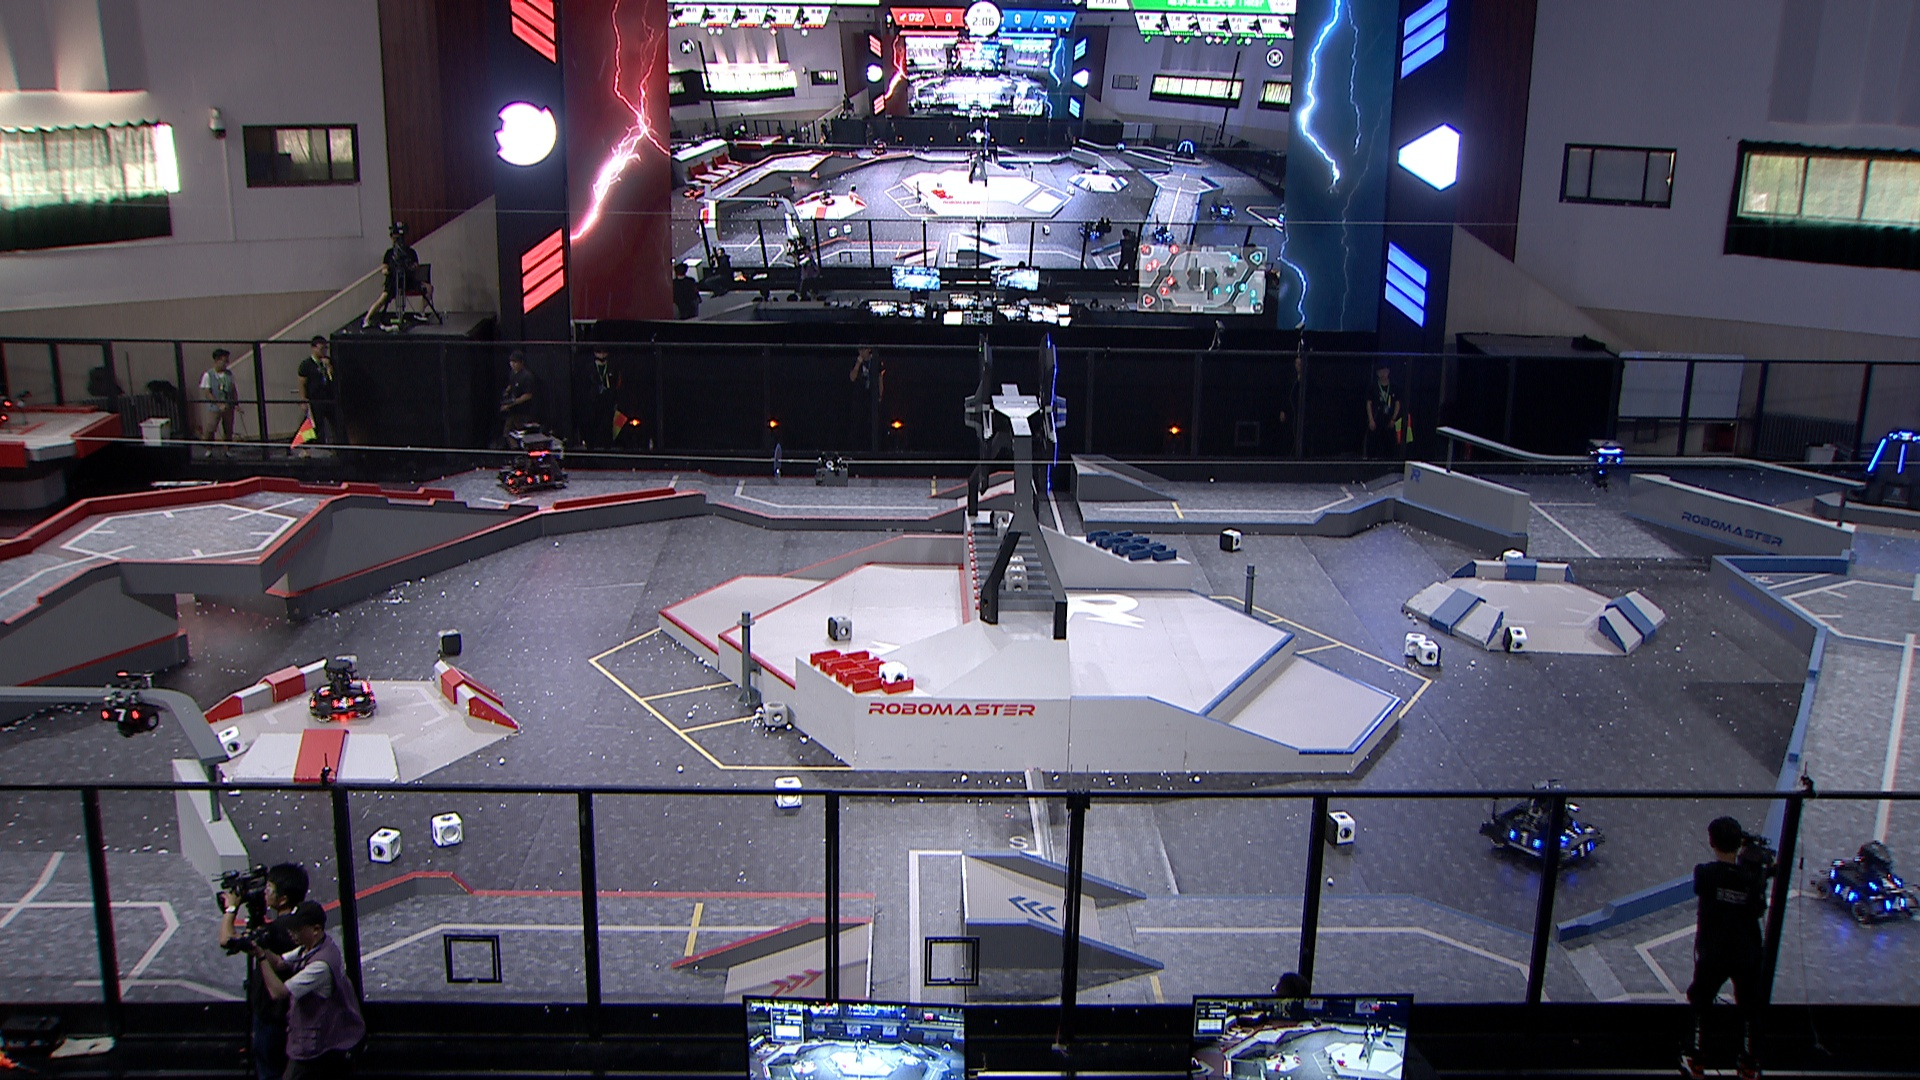armor: (1869, 436, 1888, 475), (102, 707, 141, 725), (1509, 828, 1542, 849), (1865, 876, 1903, 893), (1557, 827, 1585, 844), (1571, 841, 1596, 858), (1883, 895, 1907, 913), (328, 698, 356, 711), (1836, 884, 1855, 902), (1898, 443, 1908, 475), (1596, 454, 1623, 465), (1890, 433, 1920, 443), (524, 473, 550, 485), (501, 475, 516, 488), (318, 683, 328, 698)
base: (1846, 431, 1920, 516)
car: (1477, 779, 1609, 873), (1811, 840, 1920, 924), (491, 425, 567, 493), (305, 655, 380, 721)
ignore: (1211, 200, 1238, 223), (1077, 222, 1106, 240), (1174, 138, 1196, 162), (1150, 225, 1176, 244), (872, 138, 891, 157), (818, 190, 836, 207), (766, 191, 783, 208), (1116, 142, 1126, 154)
watcher: (102, 671, 164, 737), (1585, 438, 1625, 491)
